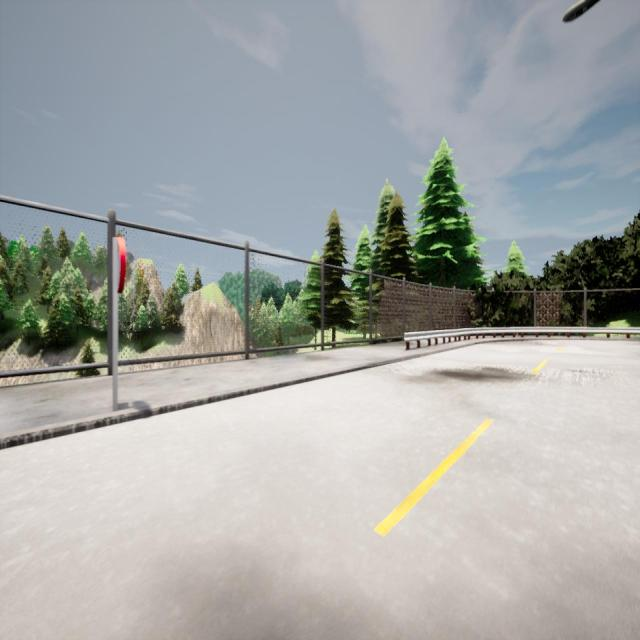Traffic_Signs: (110, 236, 127, 296)
